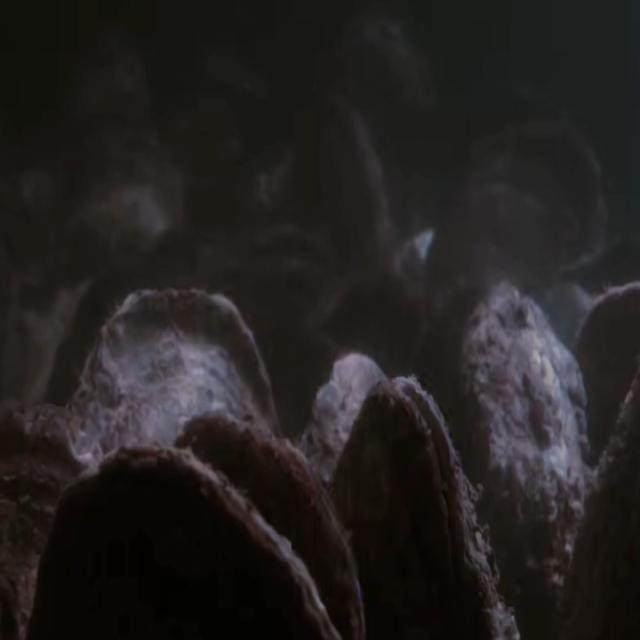Oyster-Closed: (29, 443, 339, 640), (173, 409, 365, 640), (0, 399, 104, 640)
Oyster-Indeterminate: (68, 287, 282, 640), (449, 281, 594, 640), (420, 118, 608, 329), (298, 353, 390, 640), (287, 84, 397, 284), (64, 140, 189, 278), (571, 280, 640, 518)
Oyster-Open: (326, 373, 514, 640), (225, 217, 349, 337)
